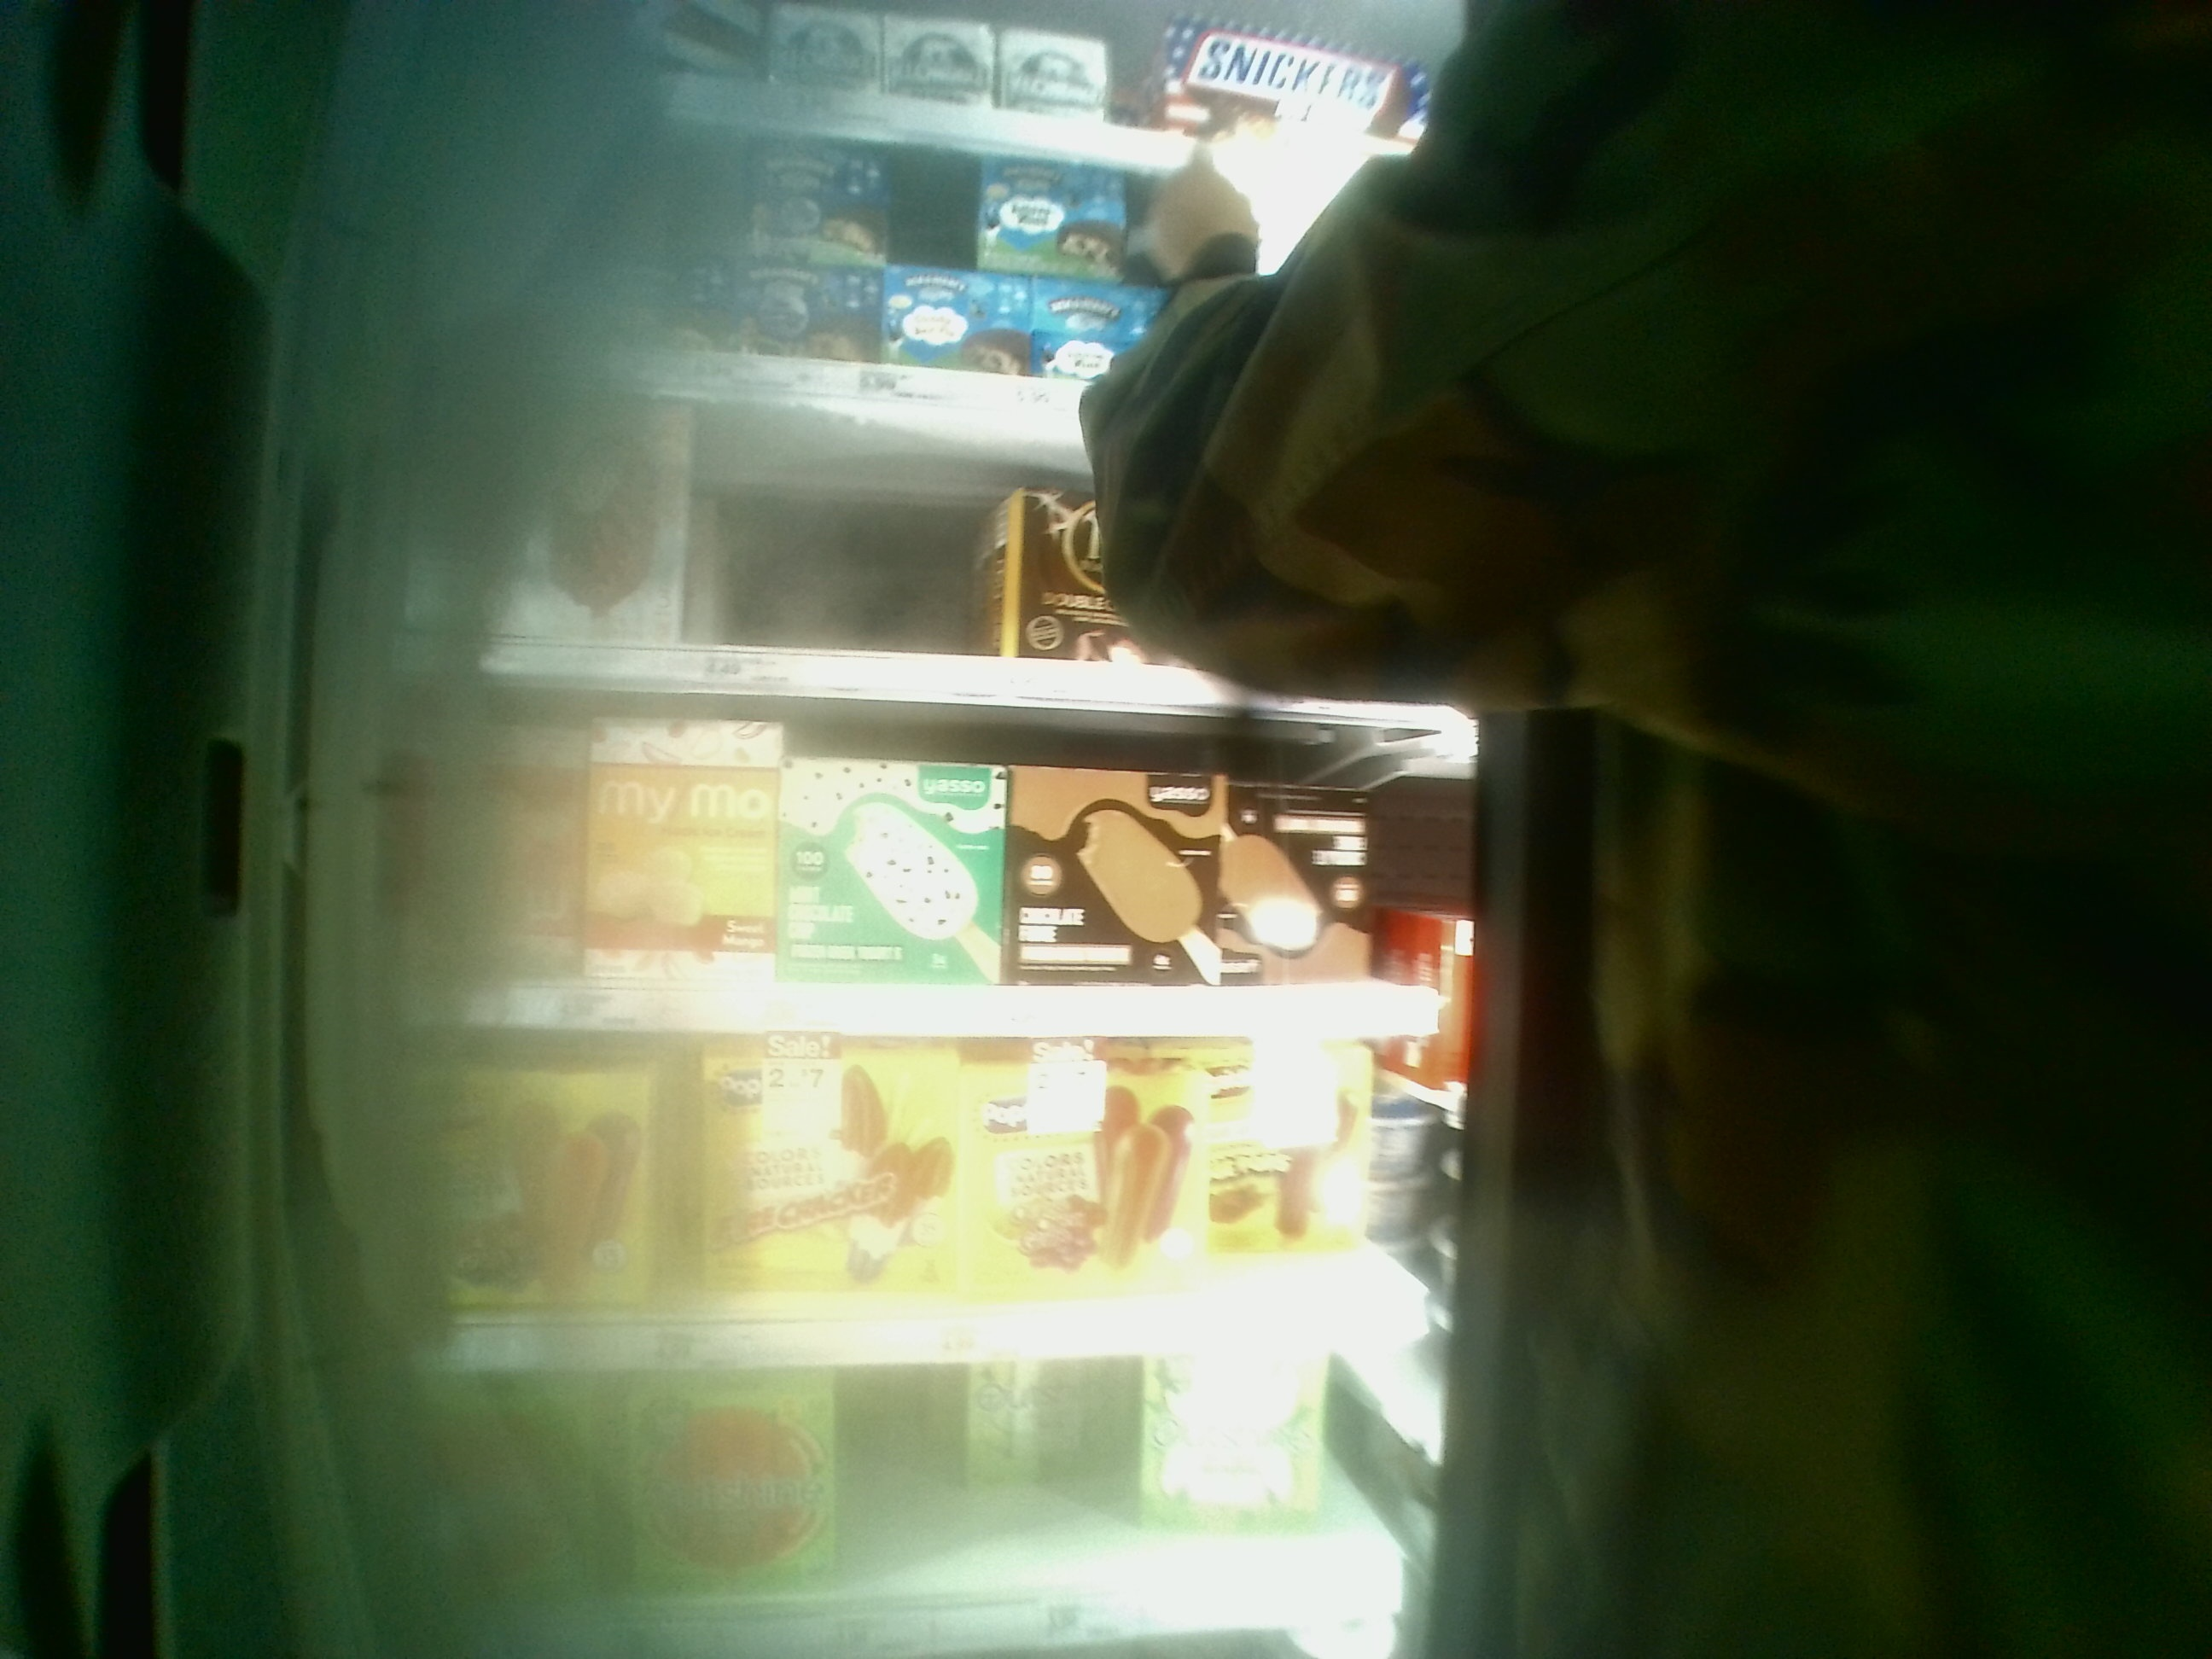ice-cream-shelf: (383, 673, 1456, 1030), (376, 1030, 1465, 1368)
